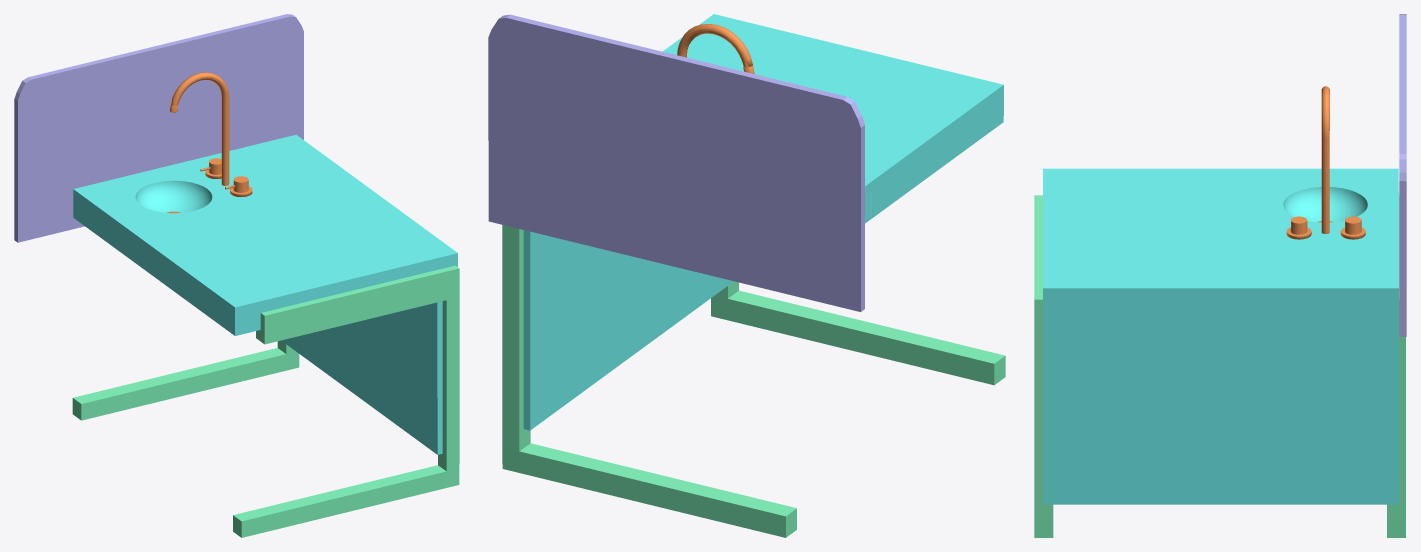
Rendered from tableA_improved.fbx.
3 renders of one model, left to right at view 1: azimuth 30°, elevation 25°; view 2: azimuth 150°, elevation 25°; view 3: azimuth 270°, elevation 25°, orthographic. The views are drawn at different scales.
Visible parts, largest first — view 1: newTableA; view 2: newTableA; view 3: newTableA.
Boxes of the visible parts, box(x1,y1,x2,y2) form: newTableA: box(14, 14, 459, 537); newTableA: box(488, 14, 1005, 537); newTableA: box(1034, 14, 1406, 537).
Size of the model in its own units: 96 by 111 by 98.35.
